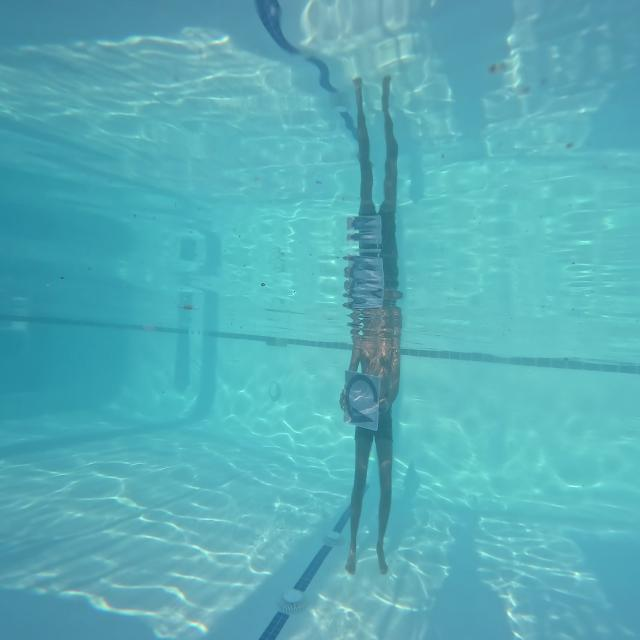blue_side: (344, 369, 381, 430)
